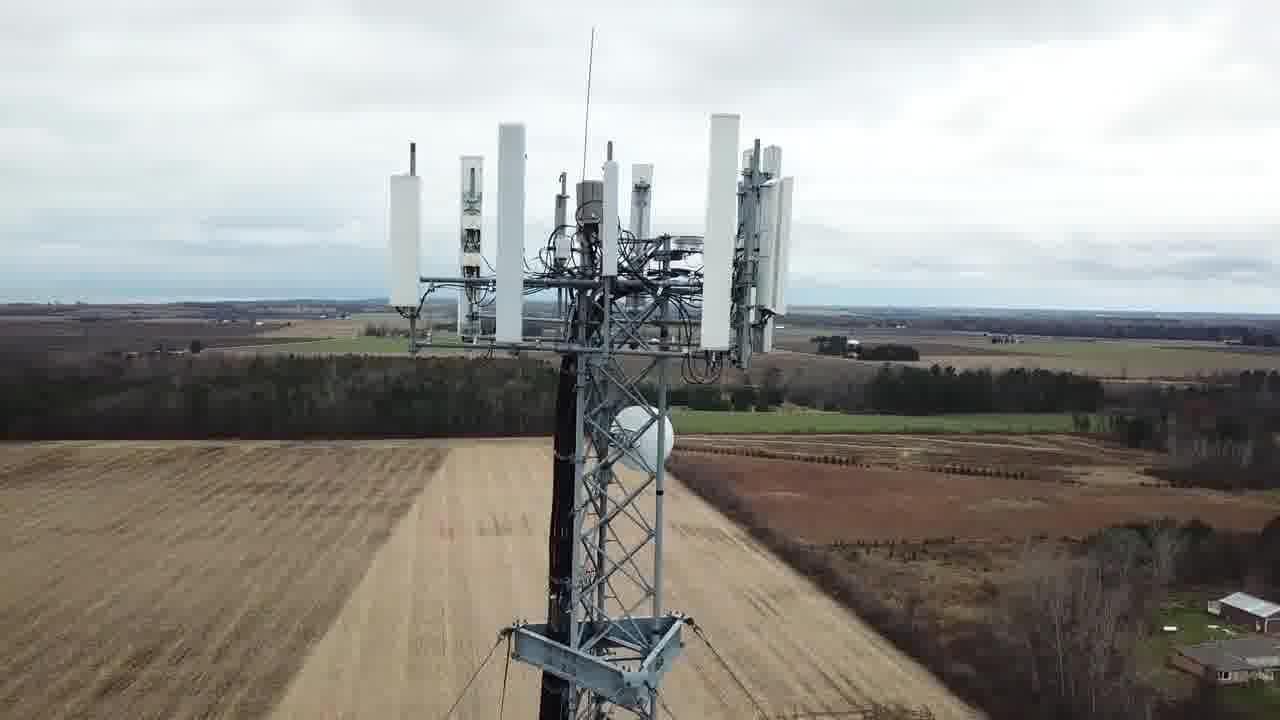Microwave Antenna: (599, 393, 680, 487)
antenna: (698, 113, 747, 350), (494, 116, 529, 350), (757, 174, 798, 331), (447, 155, 488, 307), (384, 168, 427, 308), (623, 159, 662, 278), (597, 161, 619, 279)
